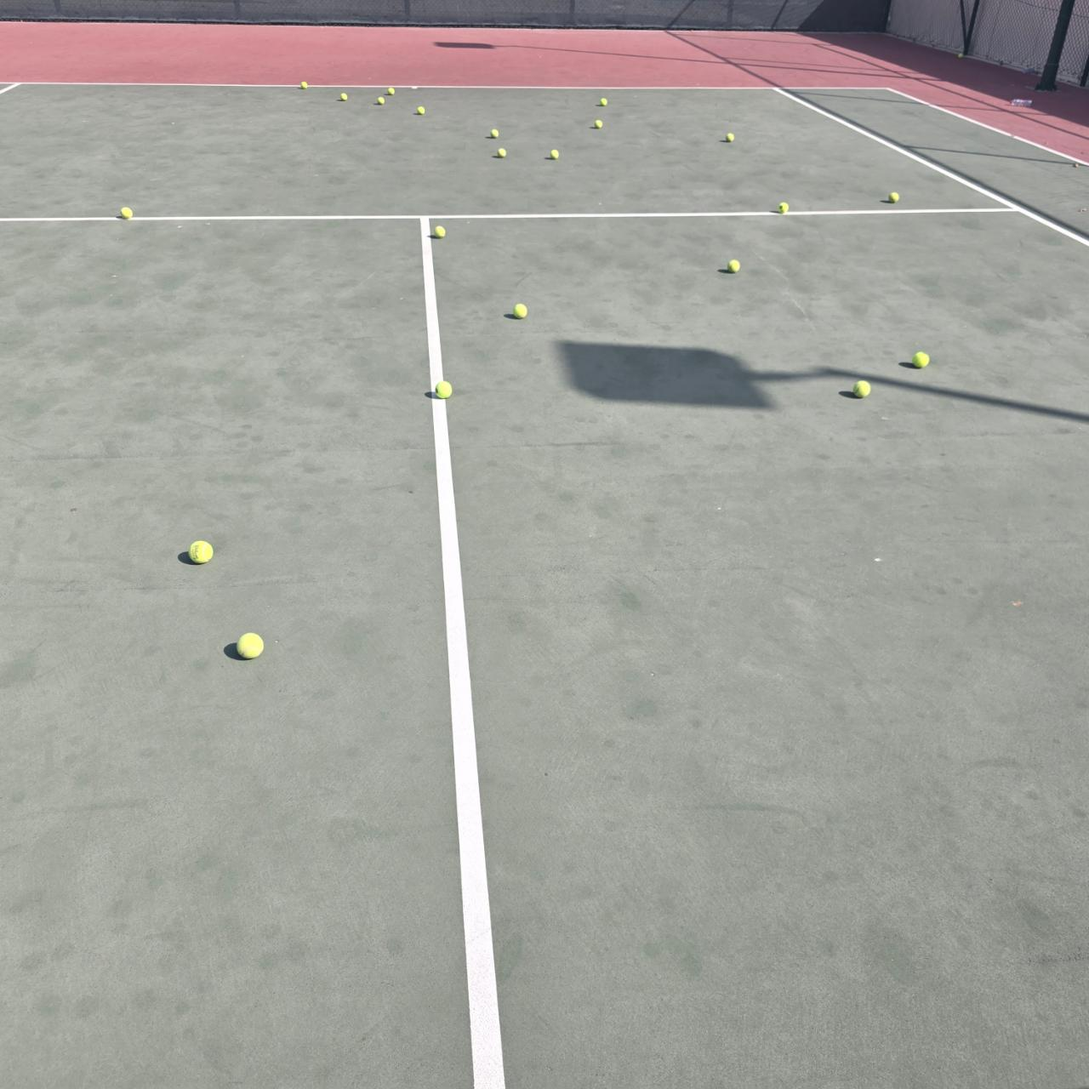tennis-ball: (236, 630, 265, 659), (187, 537, 214, 563), (434, 379, 453, 398), (852, 378, 870, 397), (912, 349, 929, 368), (512, 300, 527, 317), (433, 225, 447, 239), (119, 207, 134, 220), (727, 257, 739, 272), (778, 202, 790, 215), (888, 192, 900, 204), (725, 132, 735, 144), (549, 150, 560, 160), (594, 118, 604, 129), (497, 148, 506, 158), (490, 129, 499, 138), (599, 98, 608, 107), (417, 106, 426, 115), (387, 87, 396, 96), (377, 96, 385, 105), (340, 93, 348, 100), (300, 82, 308, 89), (958, 53, 963, 57)
